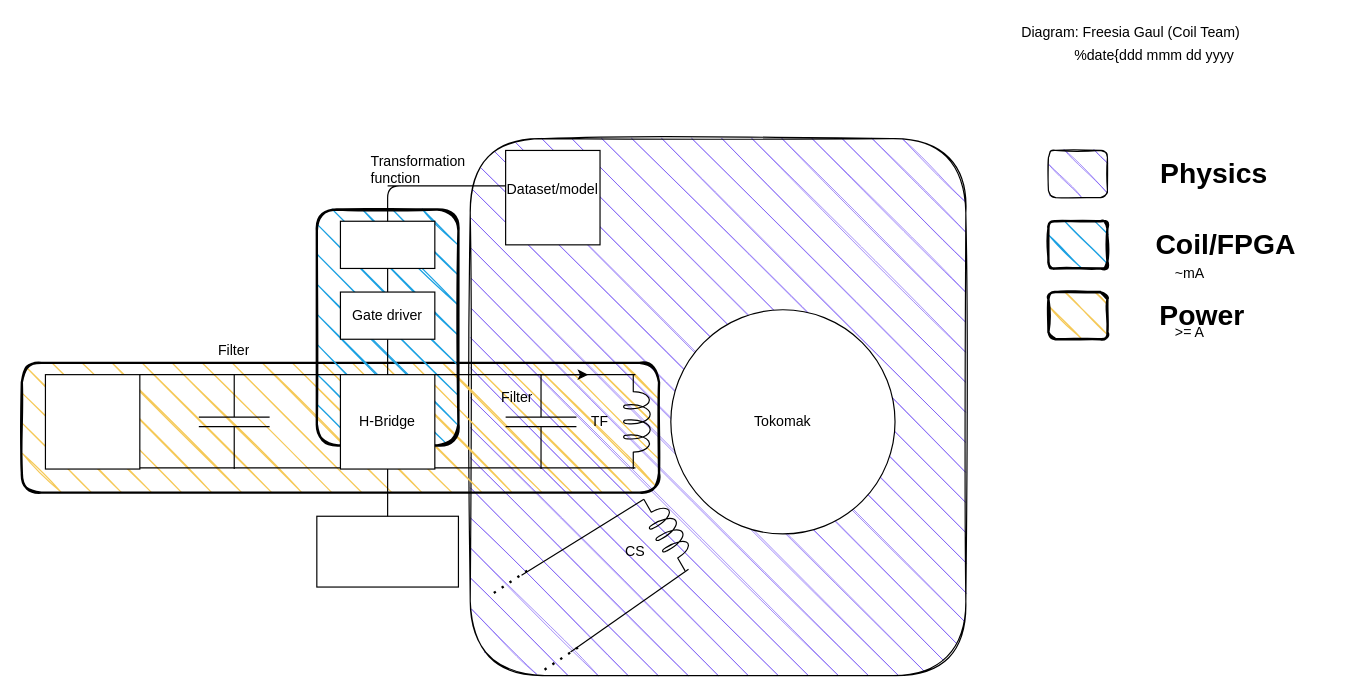
Image size: 1351x696. Some labels were removed from this diagram. The centre of each missing label's shape, as x and y in pixels:
"Cooling method" goes at (387,551).
"FPGA" goes at (387,244).
"Supercapacitor /power team system" goes at (92,421).
